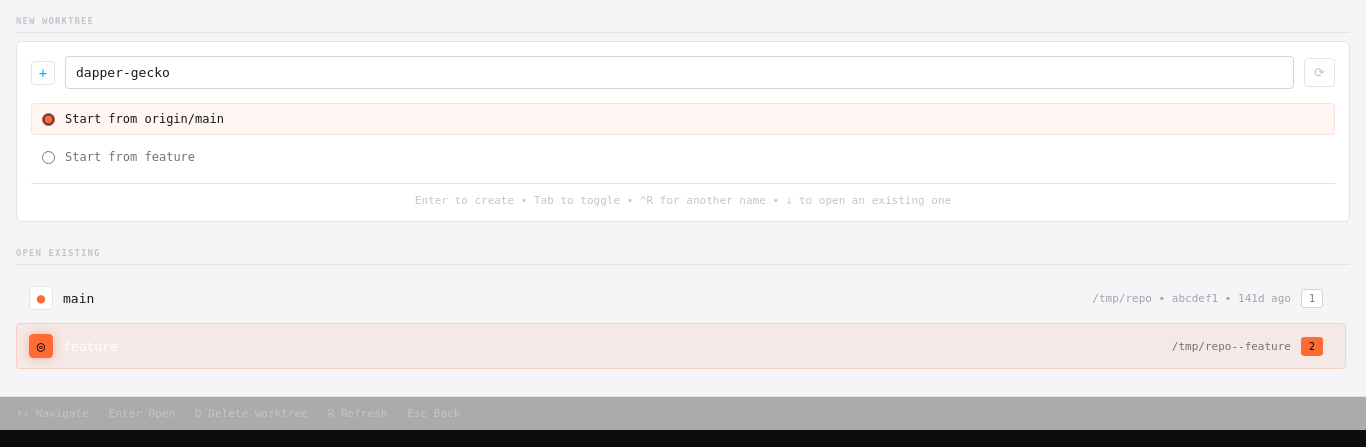
Test case: RepoOptions › focusing the create form clears any pending delete confirmation
Press D in the element with test id "repo-options"
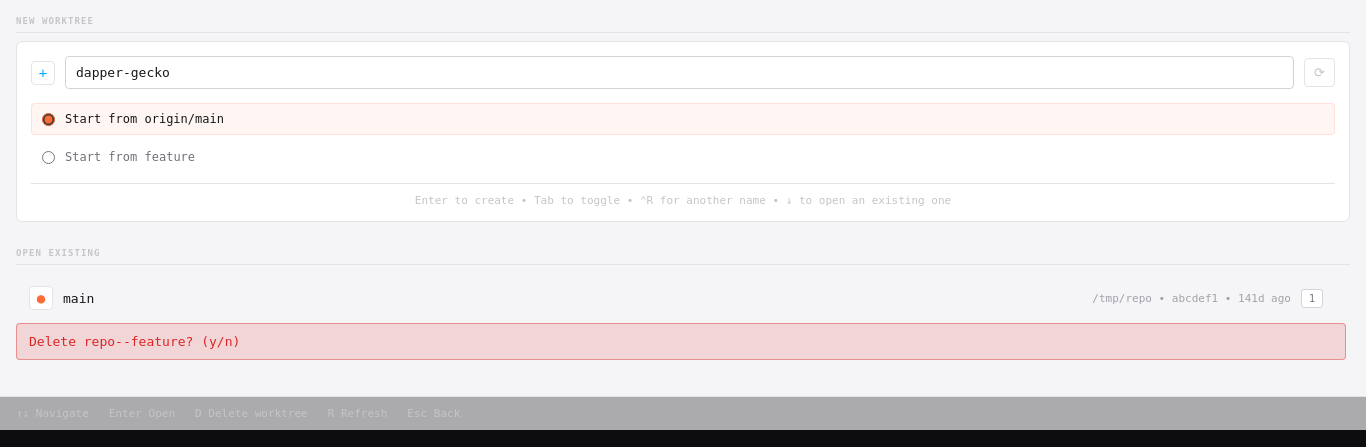
Result: the text "Delete repo--feature? (y/n)" is shown at [29,334,240,349]
Click the element with test id "repo-new-worktree-form" at x=683, y=132, box [16,41,1350,222]
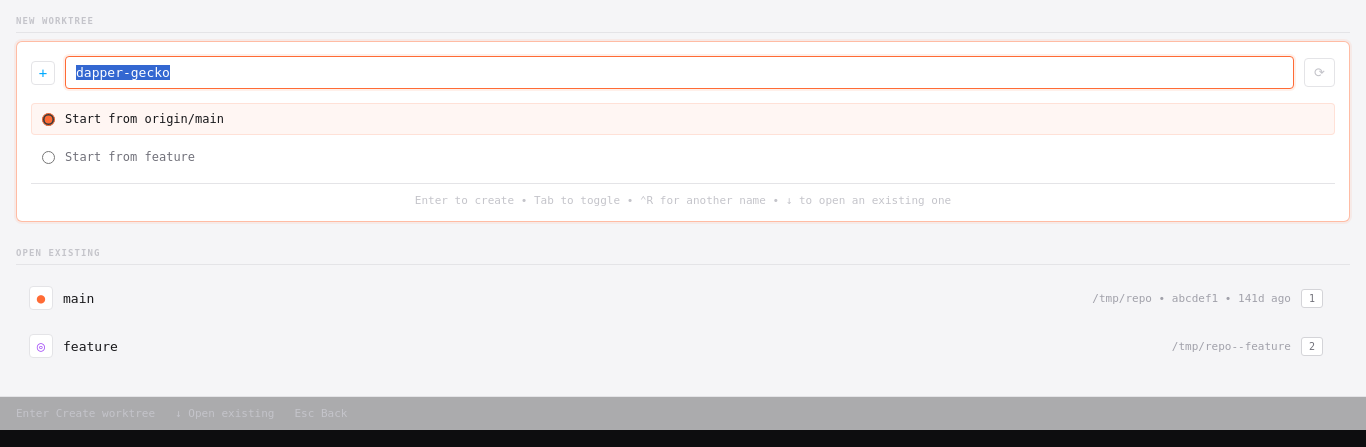
Result: the text "Delete repo--feature" is gone
